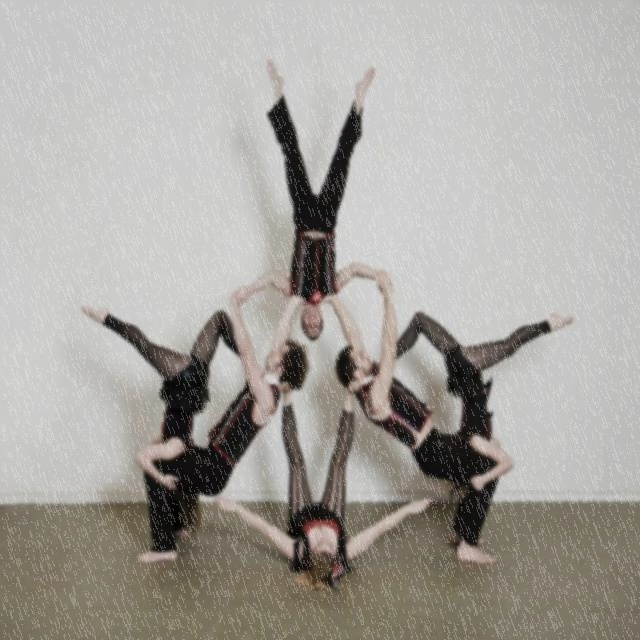pessoa: (318, 270, 503, 564), (226, 57, 396, 346), (211, 375, 433, 593), (362, 304, 578, 504), (134, 336, 312, 567), (80, 304, 243, 542)
